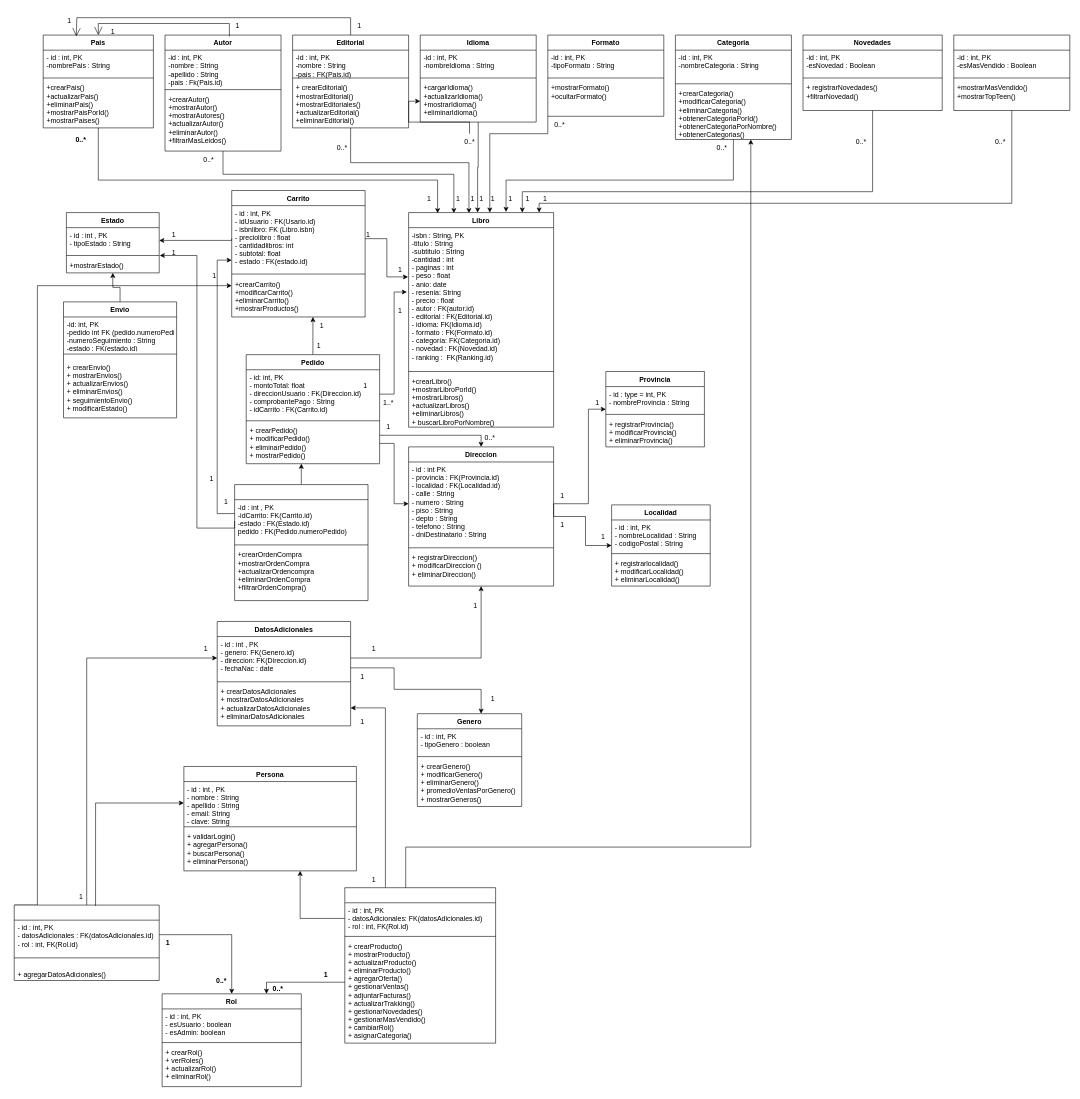
The diagram is 1080 pixels wide and 1099 high, and some of its shapes have lost their labels. Each missing label, with the box of its shape:
Administrador: (344, 887, 496, 1043)
Orden de compra: (234, 484, 368, 601)
Ranking: (953, 35, 1070, 110)
Usuario: (14, 905, 159, 980)
